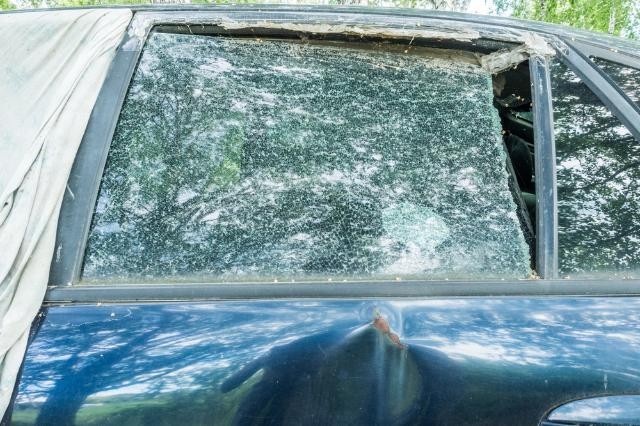dent: (280, 303, 427, 426)
glass shatter: (79, 30, 537, 283)
